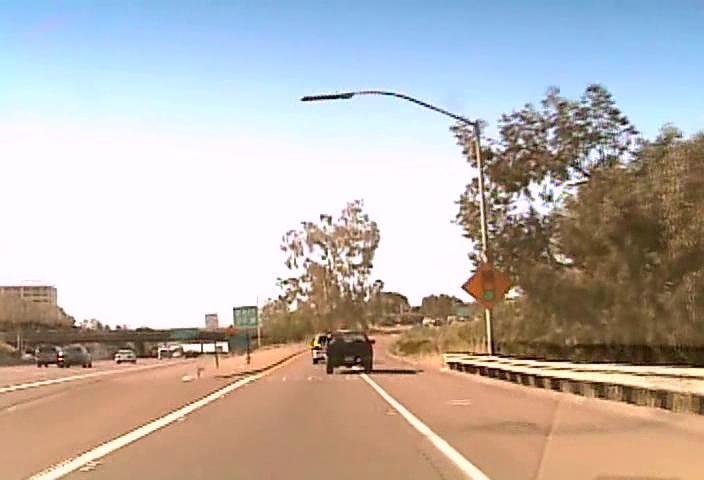signalAhead: (460, 259, 513, 310)
